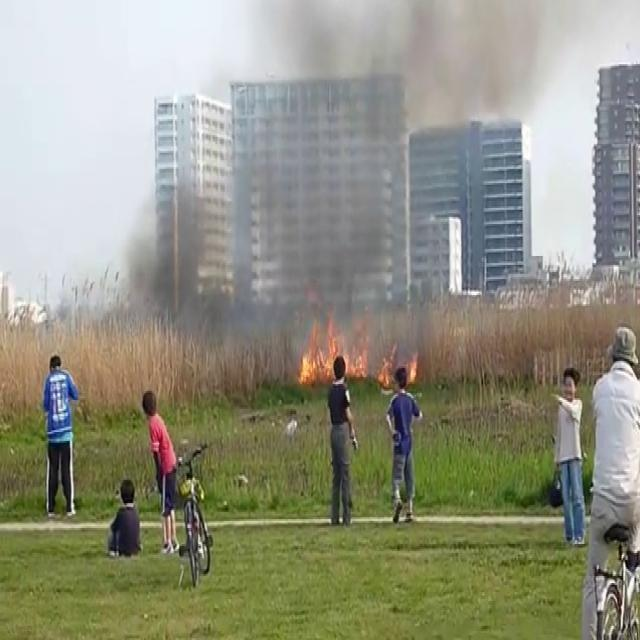Fire: (295, 308, 368, 390)
Smoke: (246, 0, 457, 311)
